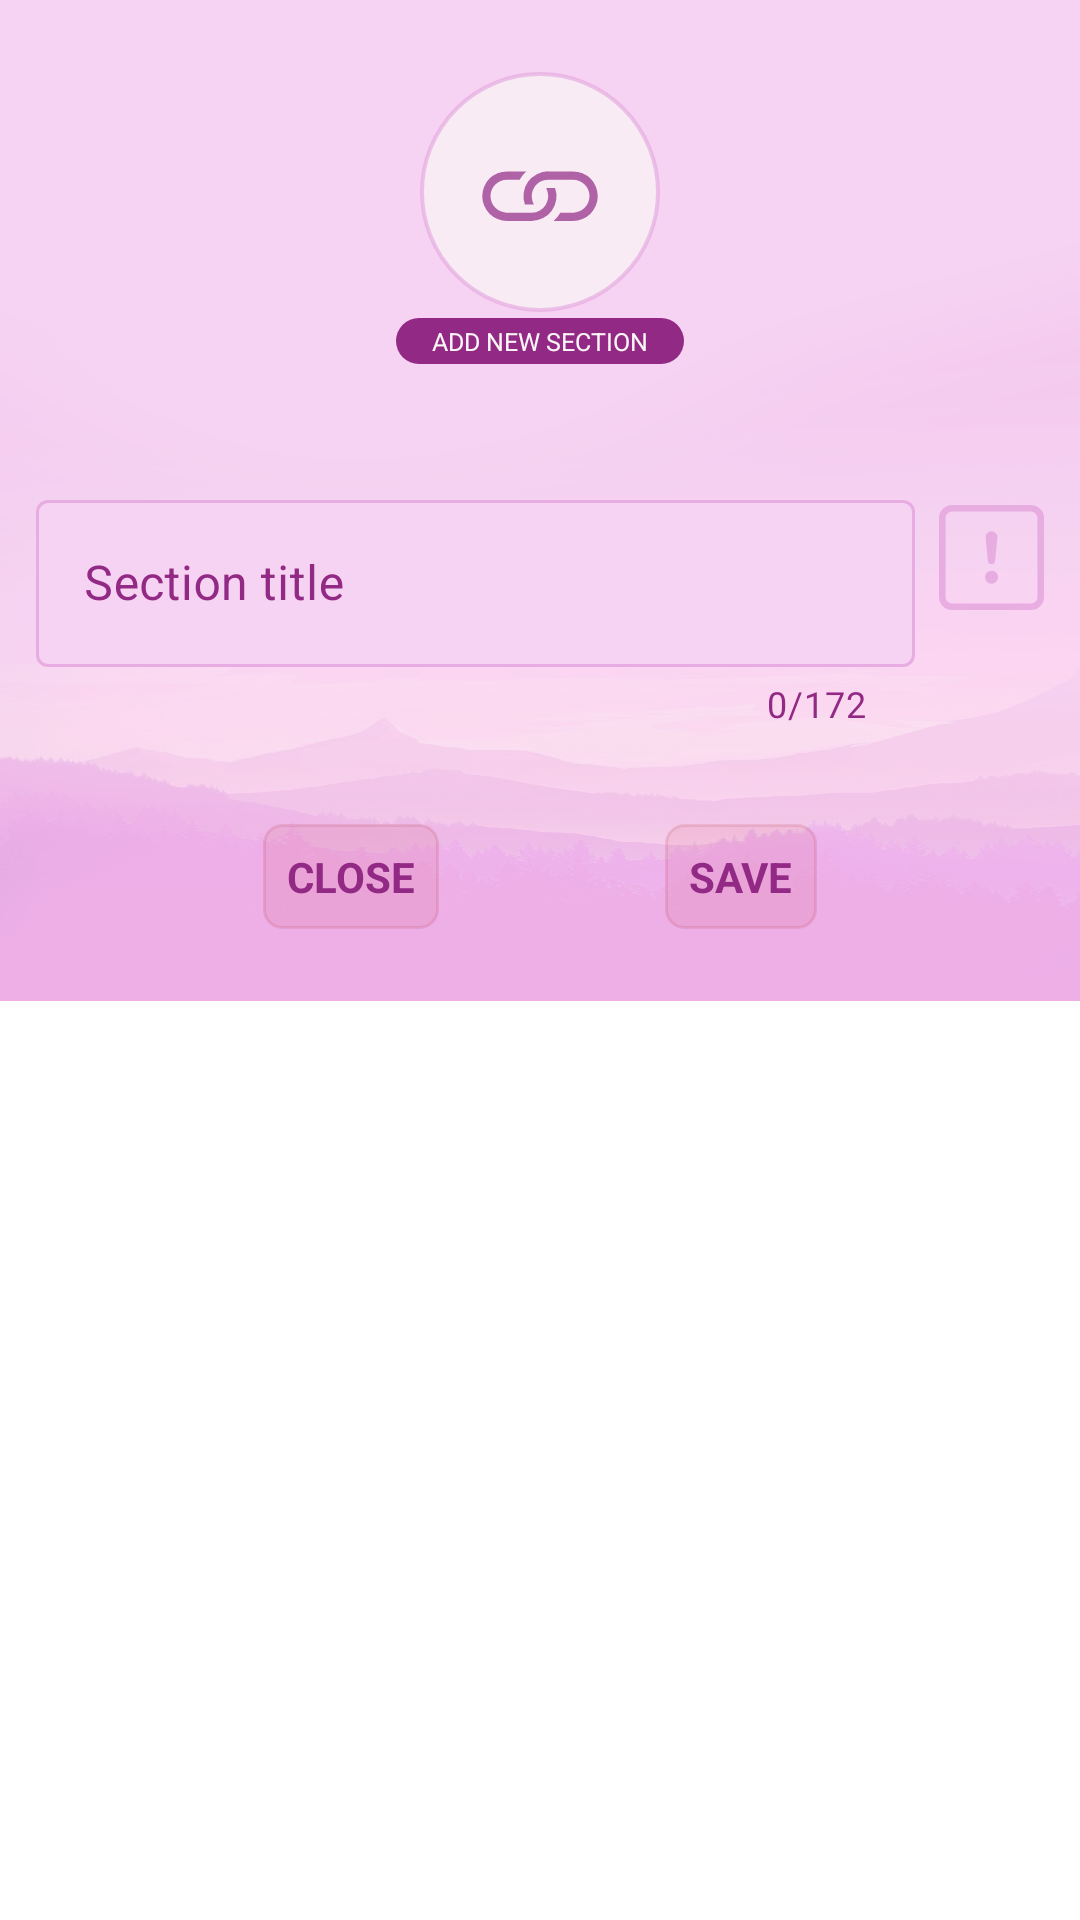

Where to tap for icons on this 1080px x 1920px app screen, as (x=x, y=y):
custom important checkbox: (x=991, y=557)
